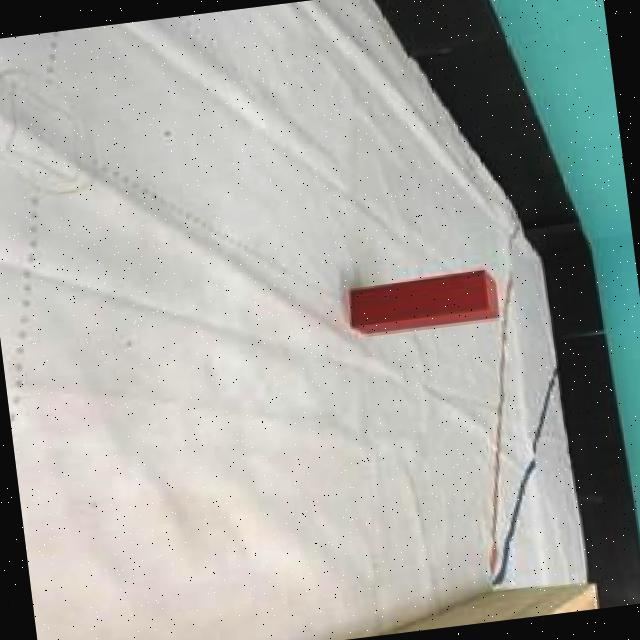redbox: (346, 266, 504, 335)
